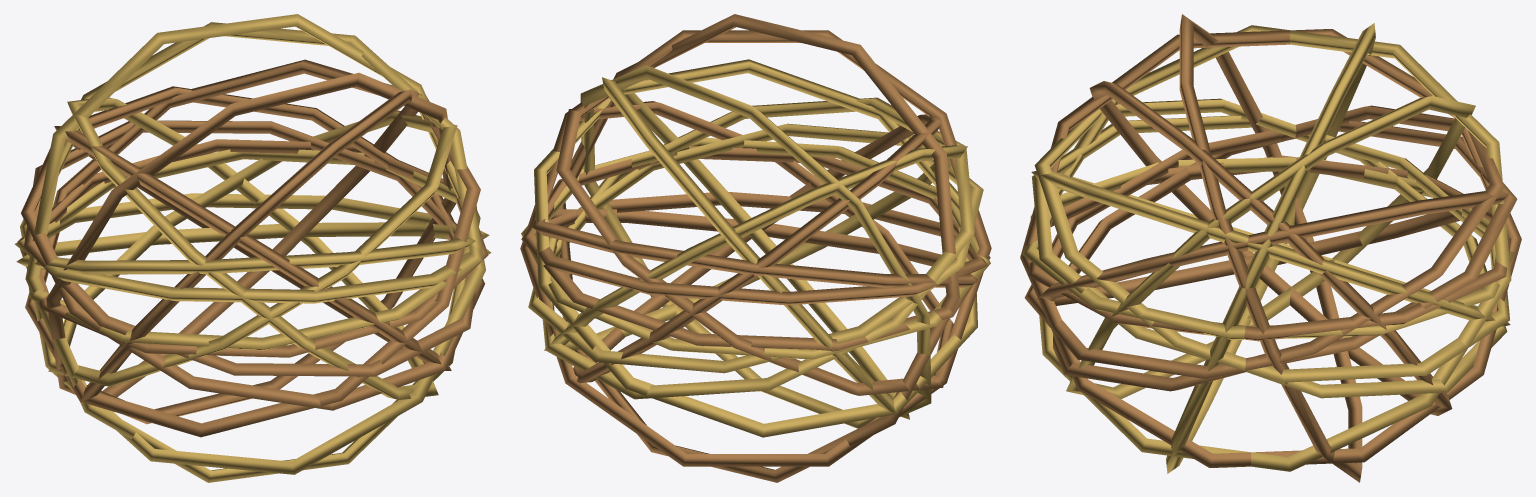
File: tumbleweed.glb
3 renders of one model, left to right at view 1: azimuth 30°, elevation 25°; view 2: azimuth 150°, elevation 25°; view 3: azimuth 270°, elevation 25°, orthographic. The views are drawn at different scales.
Visible parts, largest first — view 1: tumbleweed; view 2: tumbleweed; view 3: tumbleweed.
Part boxes in pixels (<box>): tumbleweed: <box>14,14,491,482</box>; tumbleweed: <box>520,14,991,482</box>; tumbleweed: <box>1020,14,1521,482</box>.
Bounding box in the file's own units: 0.702 × 0.62 × 0.6994.
